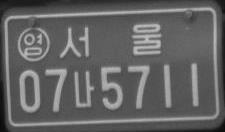0: (18, 69, 40, 114)
1: (158, 63, 179, 109), (184, 62, 204, 107)
5: (100, 65, 124, 112)
7: (44, 67, 68, 113), (127, 64, 150, 110)
나: (73, 70, 94, 108)
서울_D: (58, 22, 162, 59)
영: (17, 26, 51, 63)
